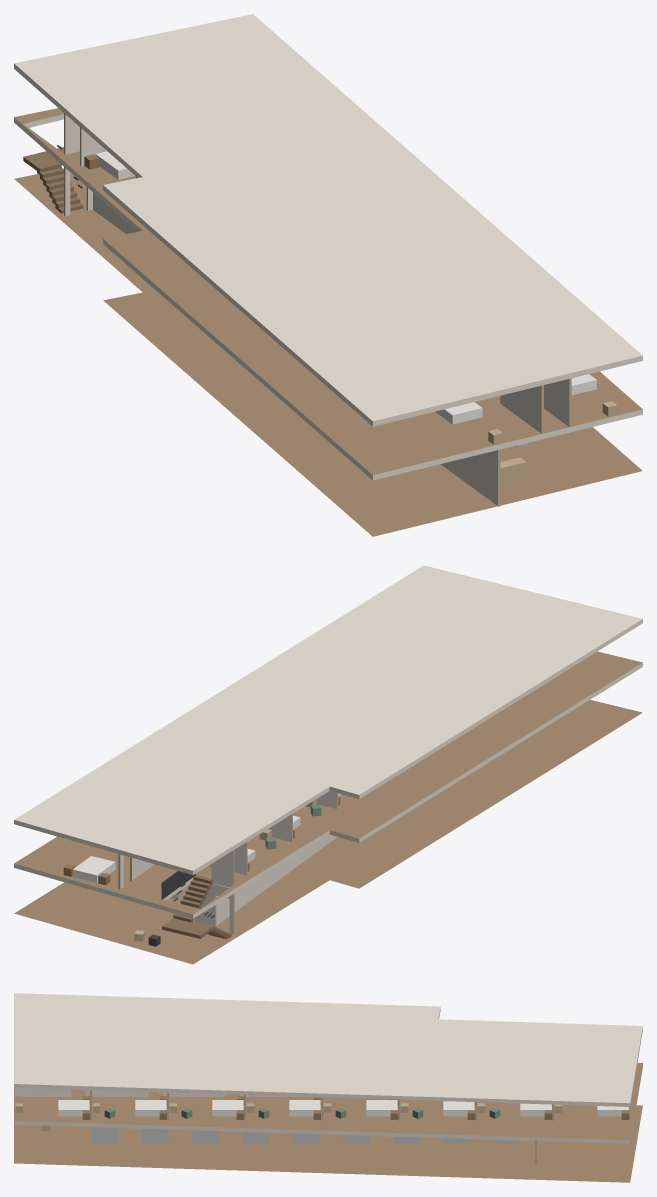
Rendered from interior.glb.
3 views of the same model, one above another, from view 1: azimuth 30°, elevation 25°; view 2: azimuth 150°, elevation 25°; view 3: azimuth 270°, elevation 25° (orthographic). The views are drawn at different scales.
Visible parts, largest first — view 1: slabs, partitions, coarse-s1, stair; view 2: slabs, partitions, stair, coarse-s1; view 3: slabs, coarse-s1, coarse-s0, partitions.
Boxes of the visible parts, bbox=[...] form: slabs: bbox=[14, 14, 642, 536]; partitions: bbox=[64, 113, 571, 506]; coarse-s1: bbox=[84, 151, 617, 444]; stair: bbox=[23, 145, 83, 213]; slabs: bbox=[14, 565, 642, 964]; partitions: bbox=[118, 791, 338, 934]; stair: bbox=[161, 871, 231, 939]; coarse-s1: bbox=[63, 793, 341, 885]; slabs: bbox=[14, 993, 642, 1182]; coarse-s1: bbox=[15, 1096, 629, 1119]; coarse-s0: bbox=[41, 1125, 520, 1143]; partitions: bbox=[14, 1087, 553, 1163].
Bounding box in the file's own units: 16.57 × 5.6 × 40.
